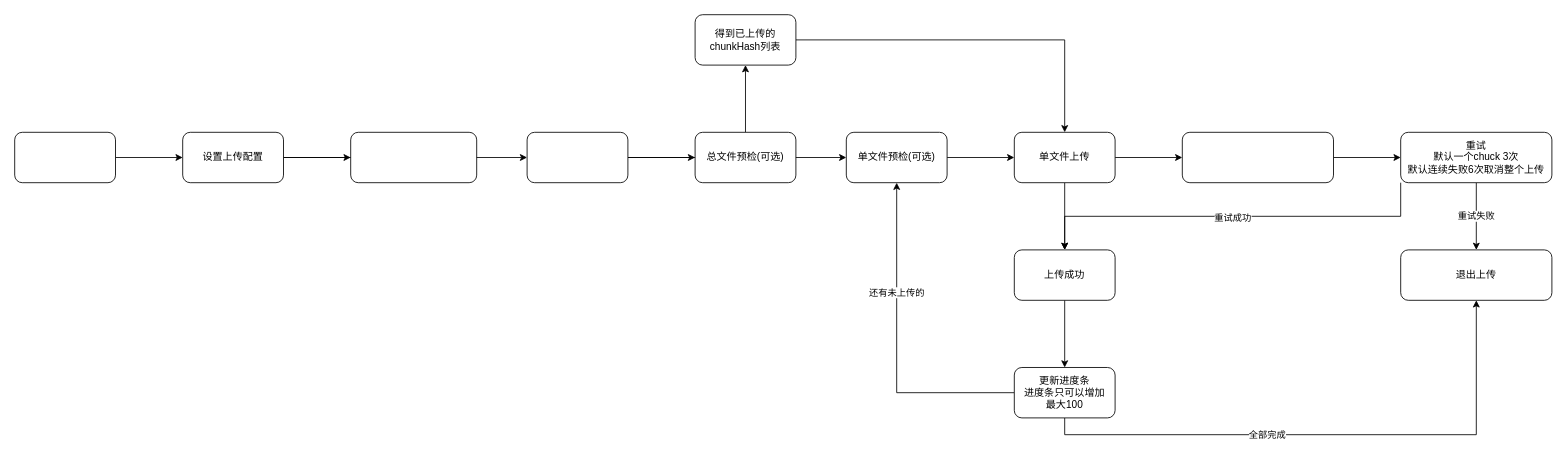
Some shapes in this 1567 by 456 pixel diagram are drawn without their labels. The centre of each missing label's shape, as x and y in pixels:
上传失败 重试(默认一个chuck 3次 默认连续失败6次): pixel 1257 157
创建chunk 计算preHash,chunkHash: pixel 413 157
添加文件: pixel 65 157
预检: pixel 577 157
